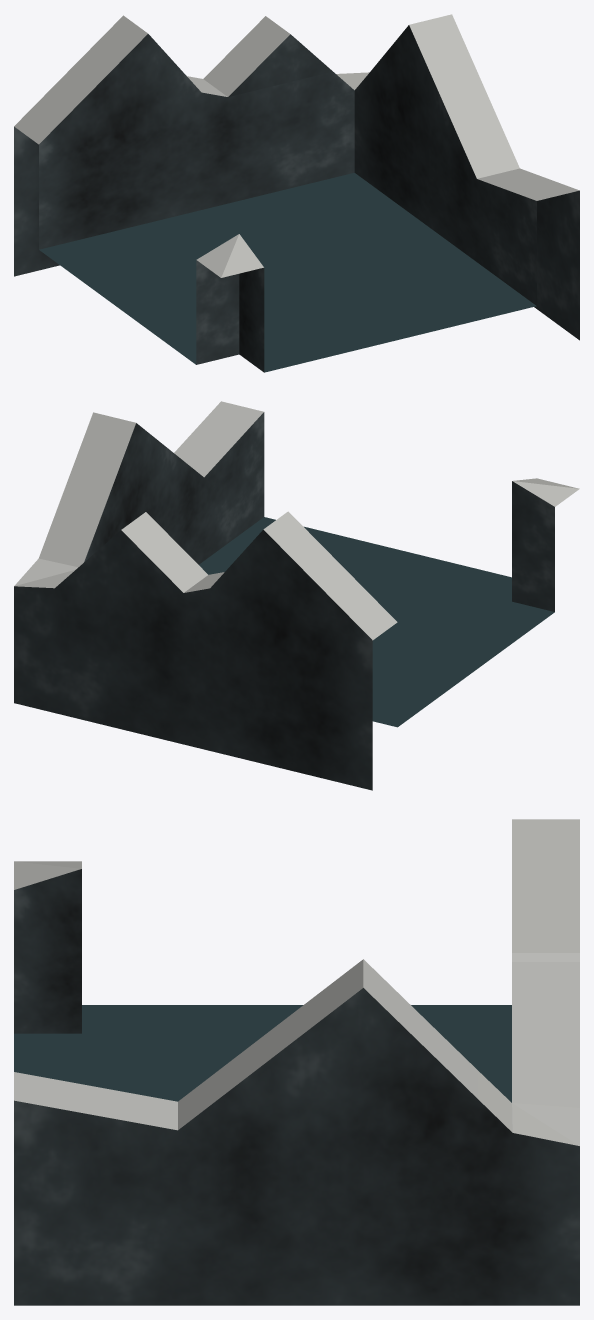
Rendered from OT_043_145_148_149_broken_wall_corner_deco.glb.
3 renders of one model, top to bottom at view 1: azimuth 30°, elevation 25°; view 2: azimuth 150°, elevation 25°; view 3: azimuth 270°, elevation 25°, orthographic. The views are drawn at different scales.
Visible parts, largest first — view 1: broken_wall; view 2: broken_wall; view 3: broken_wall.
Part boxes in pixels (x1,y1,x2,y2): broken_wall: (14,14,579,372); broken_wall: (14,401,579,790); broken_wall: (14,819,579,1305).
Bounding box in the file's own units: 0.75 × 0.4684 × 0.75.
Materials: 3 (1 with a texture image).
